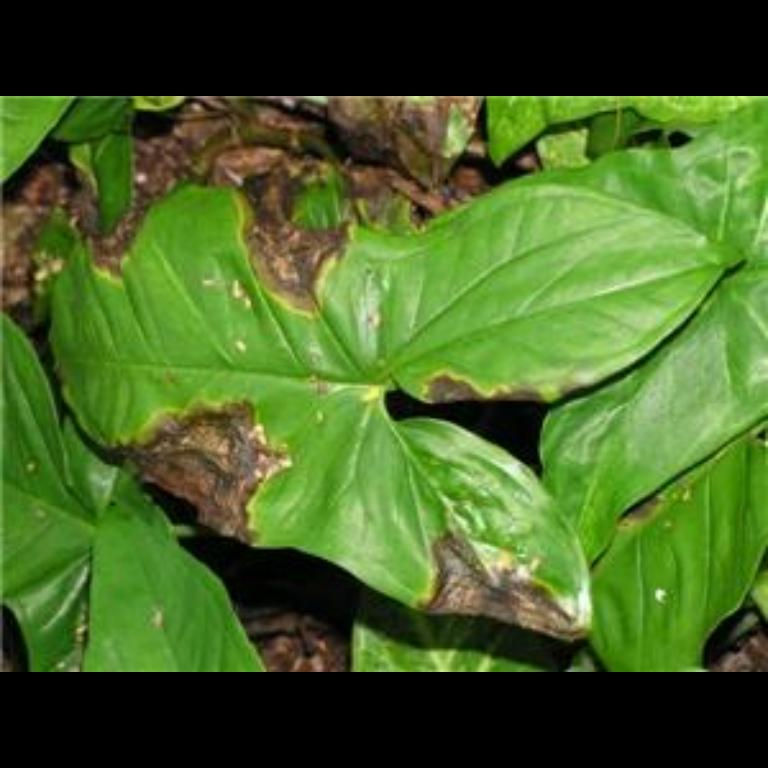blight: (128, 371, 280, 545), (218, 198, 368, 342), (430, 526, 564, 628)
